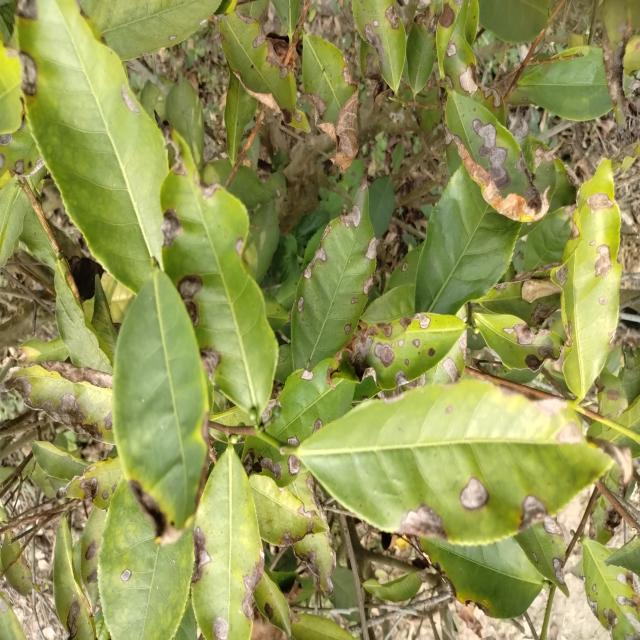Leaf: (298, 380, 609, 544), (16, 0, 168, 293), (161, 134, 278, 417), (112, 270, 211, 544), (551, 159, 622, 399), (291, 181, 376, 371), (415, 165, 521, 314), (98, 479, 194, 640), (192, 446, 264, 640), (445, 92, 549, 222), (220, 11, 310, 132), (326, 313, 466, 390), (421, 538, 543, 618), (4, 361, 114, 444), (80, 0, 221, 59), (265, 358, 356, 445), (443, 0, 505, 124), (302, 35, 358, 170), (511, 46, 612, 120), (55, 261, 113, 373), (582, 538, 640, 640), (289, 472, 336, 595), (248, 474, 327, 547), (54, 518, 96, 640), (475, 313, 560, 372), (352, 0, 406, 92), (514, 517, 569, 596), (475, 279, 560, 325), (166, 77, 204, 169), (224, 68, 258, 163), (406, 0, 438, 97), (479, 0, 550, 42), (66, 457, 123, 509), (243, 436, 302, 486), (524, 208, 570, 271), (244, 201, 279, 283), (0, 178, 31, 268), (80, 508, 106, 613), (0, 35, 24, 134), (32, 441, 88, 482), (254, 573, 290, 635), (361, 284, 415, 325), (0, 535, 33, 595), (225, 166, 269, 210), (603, 0, 640, 49), (291, 613, 354, 640), (363, 573, 421, 602), (330, 565, 359, 622), (369, 176, 395, 238), (203, 159, 231, 185)
